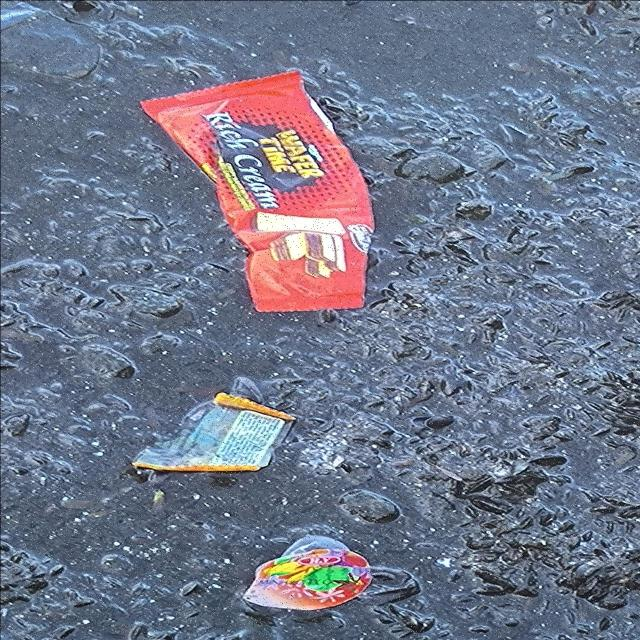plastic_waste: (138, 70, 378, 315), (131, 392, 300, 473), (241, 534, 375, 612)
